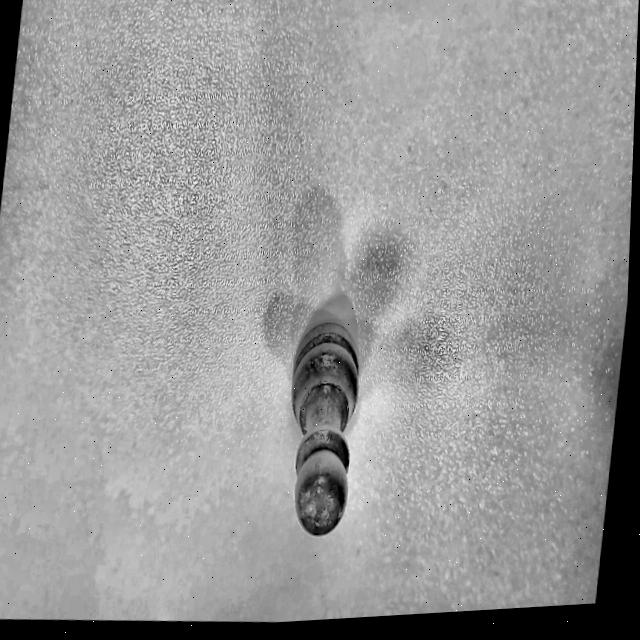black-pawn: (267, 310, 374, 546)
